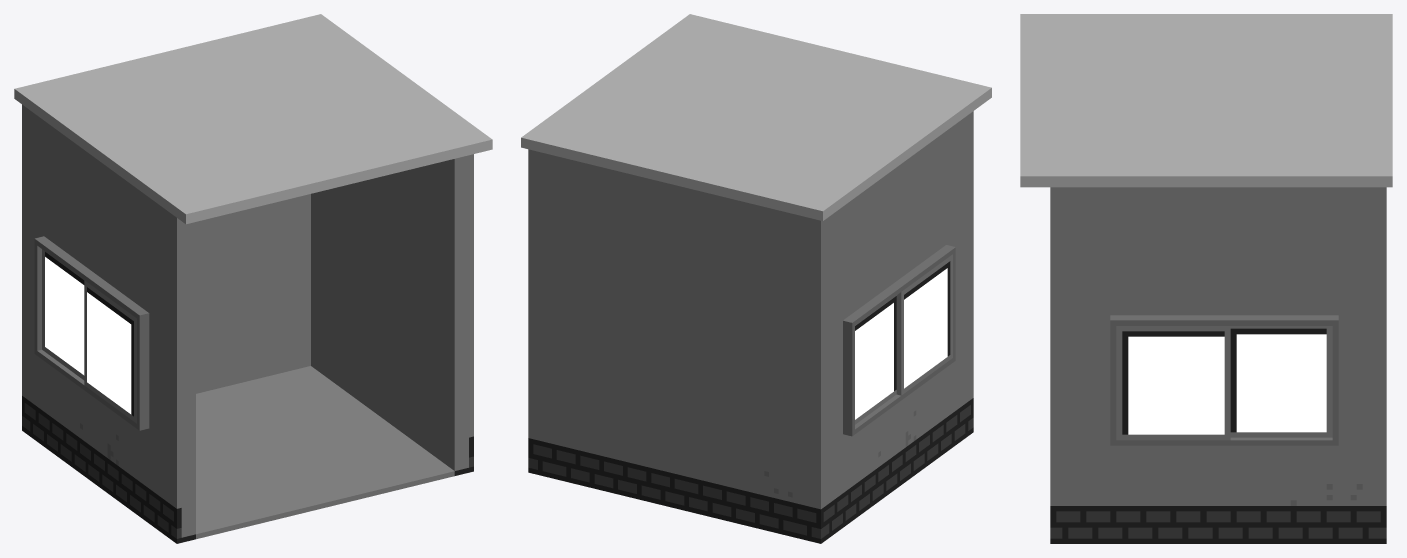
File: typeThree.glb
3 views of the same model, side by side, from view 1: azimuth 30°, elevation 25°; view 2: azimuth 150°, elevation 25°; view 3: azimuth 270°, elevation 25° (orthographic). The views are drawn at different scales.
Visible parts, largest first — view 1: ObjObject; view 2: ObjObject; view 3: ObjObject.
Boxes of the visible parts, x1,y1,x2,y2 form: ObjObject: [14, 14, 492, 543]; ObjObject: [521, 14, 991, 543]; ObjObject: [1020, 14, 1392, 543].
Bounding box in the file's own units: 6.6 × 6.8 × 6.2.
Materials: 2 (1 with a texture image).
